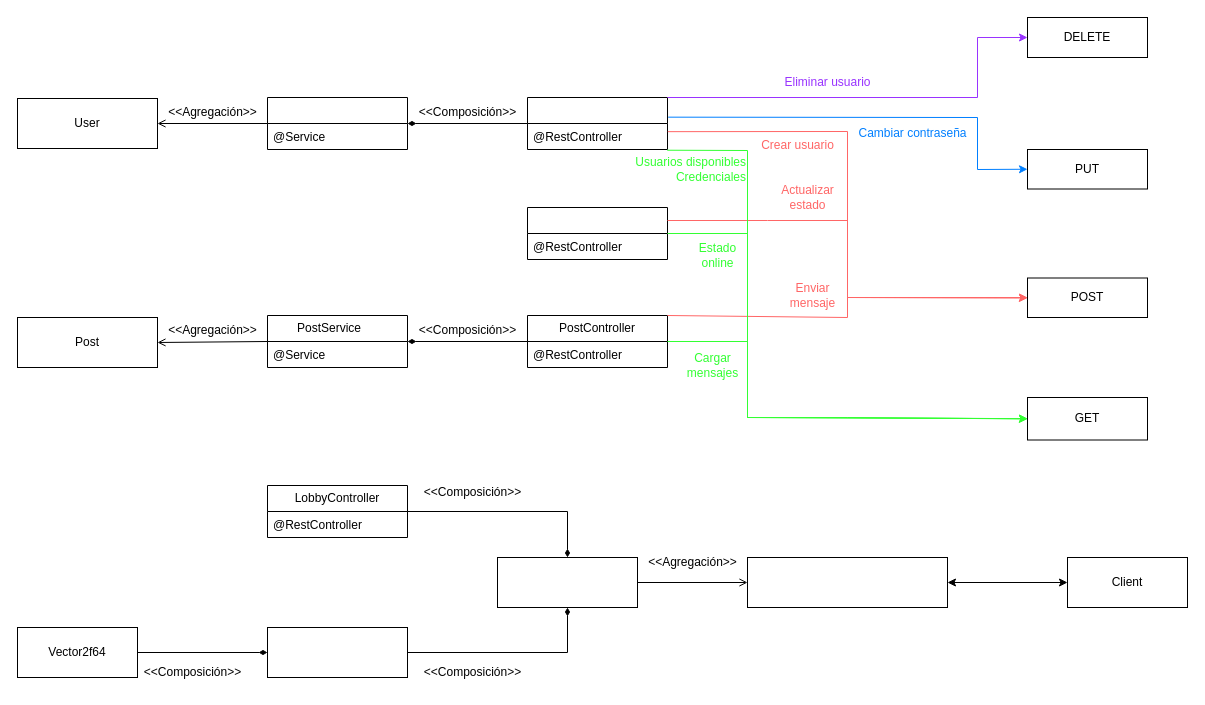
The diagram is 1205 pixels wide and 705 high, and some of its shapes have lost their labels. The box of each missing label's shape, as (x1, y1, x2, y2) in pixels:
KeepAliveController: (526, 206, 668, 260)
Lobby: (496, 556, 638, 608)
Player: (266, 626, 408, 678)
UserController: (526, 96, 668, 150)
UserService: (266, 96, 408, 150)
WebSocketMultiplayerHandler: (746, 556, 948, 608)
